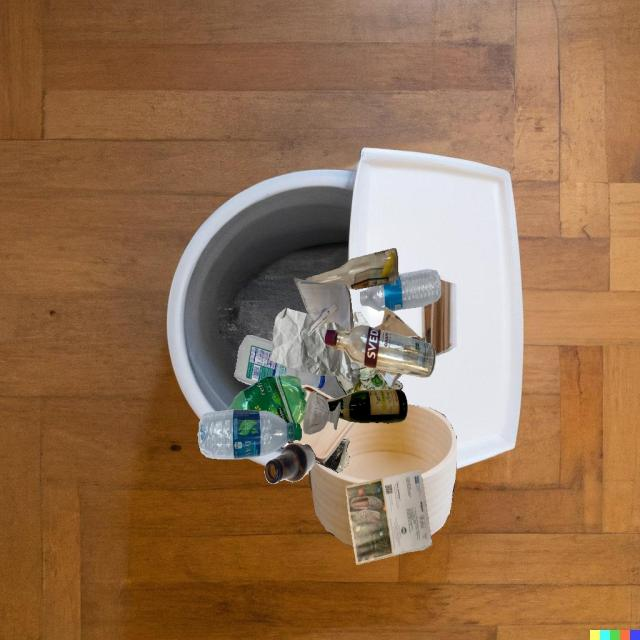cardboard: (373, 307, 426, 342), (377, 369, 403, 388)
combustible waste: (309, 404, 457, 547), (287, 418, 355, 462), (296, 391, 339, 427)
glass: (325, 325, 435, 377), (306, 248, 398, 289), (326, 389, 408, 423), (265, 443, 315, 484), (303, 391, 341, 434)
paper: (346, 470, 432, 565), (269, 308, 367, 384), (294, 278, 354, 337), (366, 389, 392, 423)
plastic: (198, 409, 302, 459), (235, 335, 325, 389), (229, 375, 307, 427), (360, 269, 441, 311), (315, 438, 350, 473)
